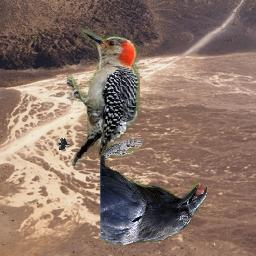Crow: (101, 139, 208, 245), (58, 138, 71, 151)
Woodpecker: (68, 27, 147, 174)
